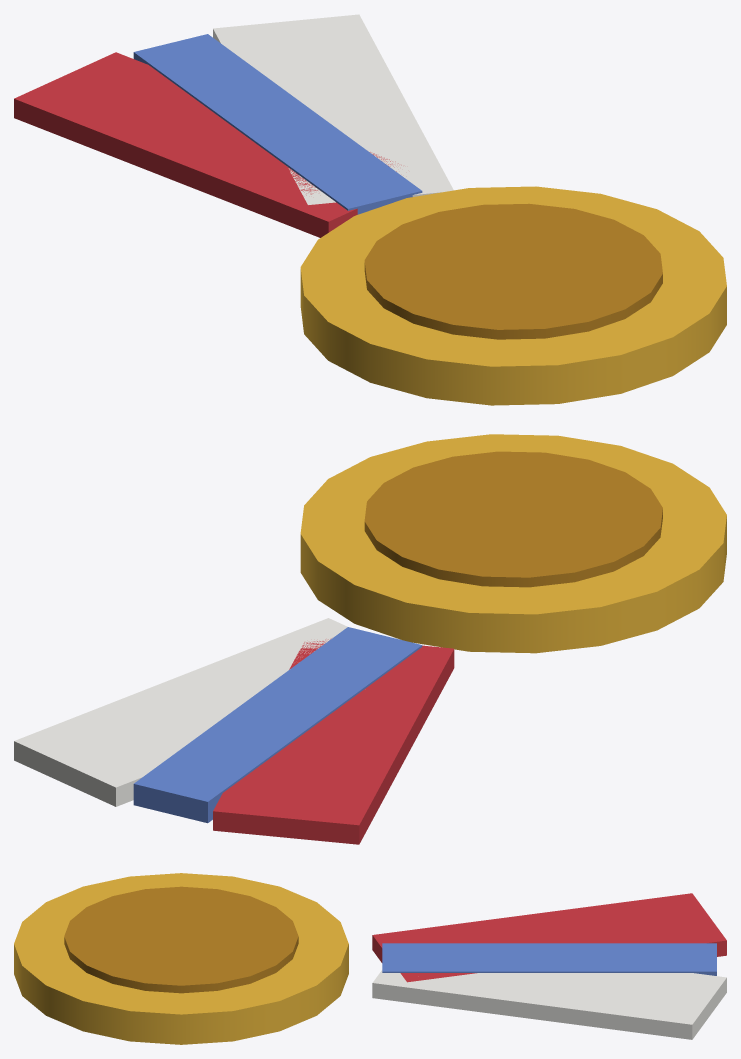
The model's file is medal.glb.
3 renders of one model, top to bottom at view 1: azimuth 30°, elevation 25°; view 2: azimuth 150°, elevation 25°; view 3: azimuth 270°, elevation 25°, orthographic. The views are drawn at different scales.
Parts seen in each view (by area): view 1: root; view 2: root; view 3: root.
Boxes of the visible parts, x1,y1,x2,y2 form: root: (14,14,726,405); root: (14,434,726,844); root: (14,873,726,1044).
Bounding box in the file's own units: 0.2 × 0.025 × 0.4259.
